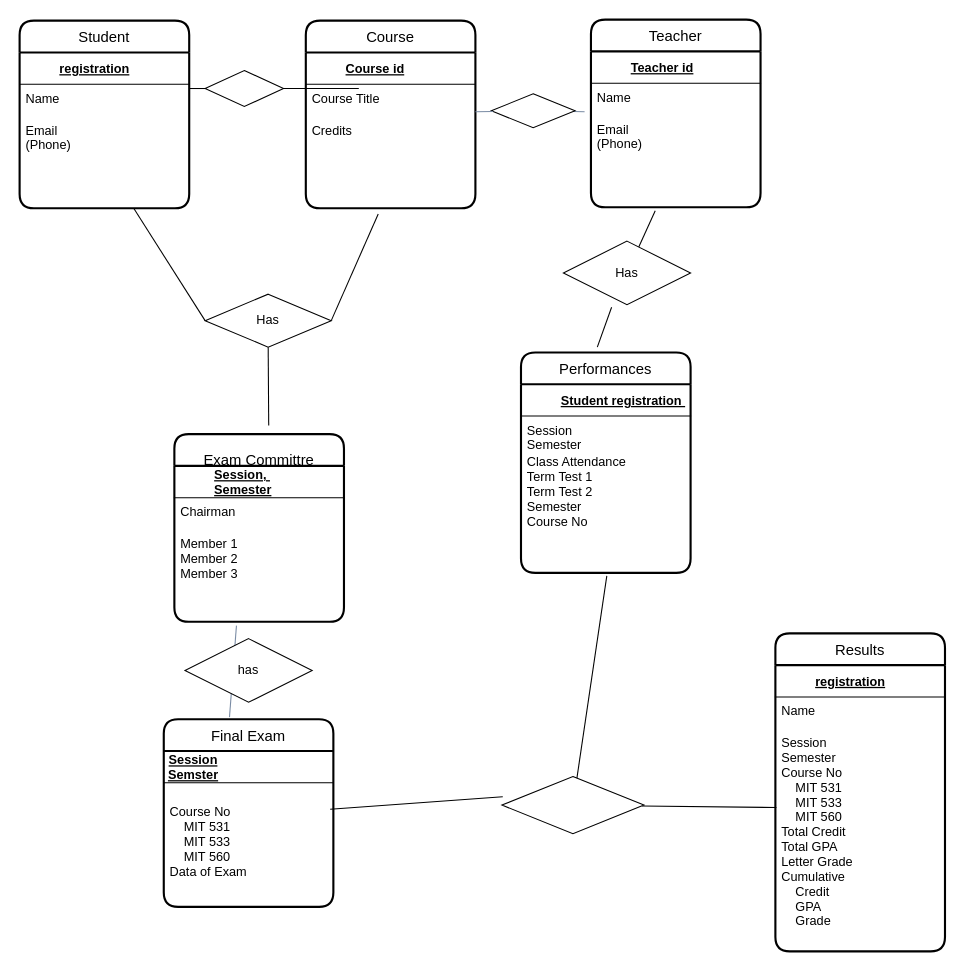
The diagram is 964 pixels wide and 972 high, and some of its shapes have lost their labels. Each missing label, with the centre of its shape:
Combine: pixel 572 804
Enrolled: pixel 244 88
teach: pixel 532 110
